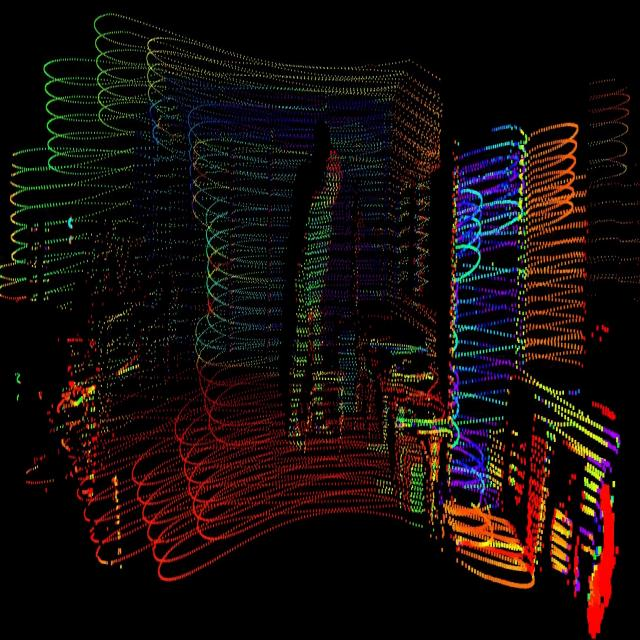human: (284, 144, 344, 446)
